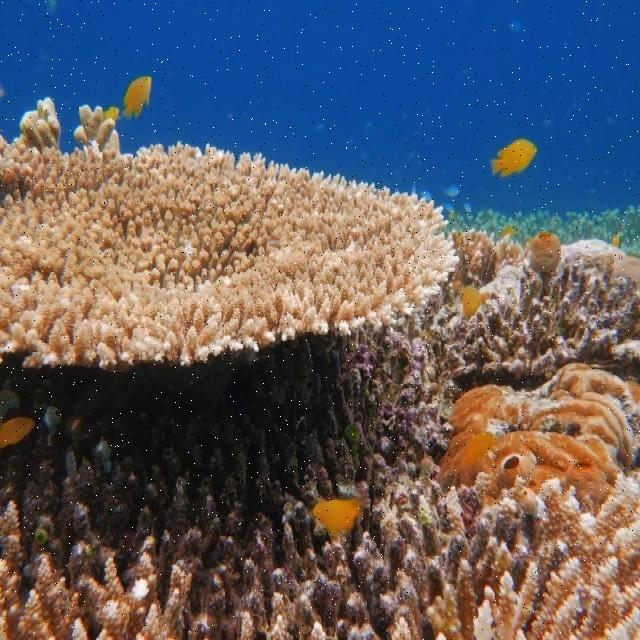fish: (315, 498, 364, 537), (492, 139, 541, 177), (122, 77, 151, 118), (1, 420, 33, 445)
reefs: (0, 138, 463, 376)
